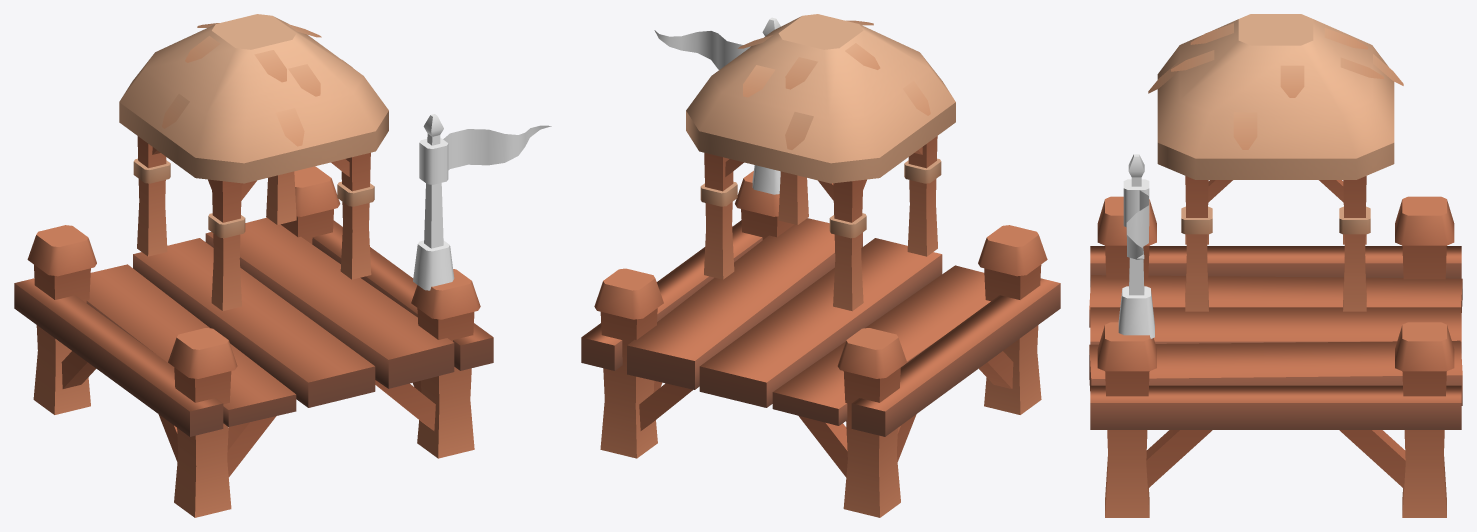
Rendered from port.glb.
3 views of the same model, side by side, from view 1: azimuth 30°, elevation 25°; view 2: azimuth 150°, elevation 25°; view 3: azimuth 270°, elevation 25° (orthographic). The views are drawn at different scales.
Visible parts, largest first — view 1: structure-platform-dock, structure-roof, flag-pennant; view 2: structure-platform-dock, structure-roof, flag-pennant; view 3: structure-platform-dock, structure-roof, flag-pennant.
Boxes of the visible parts, x1,y1,x2,y2 form: structure-platform-dock: (14, 166, 493, 517); structure-roof: (119, 14, 388, 310); flag-pennant: (413, 114, 551, 290); structure-platform-dock: (581, 171, 1060, 517); structure-roof: (686, 14, 955, 311); flag-pennant: (654, 17, 780, 194); structure-platform-dock: (1089, 196, 1462, 517); structure-roof: (1148, 14, 1403, 311); flag-pennant: (1118, 154, 1154, 338).
Bounding box in the file's own units: 2.02 × 1.98 × 1.61.
Materials: 2 (1 with a texture image).
